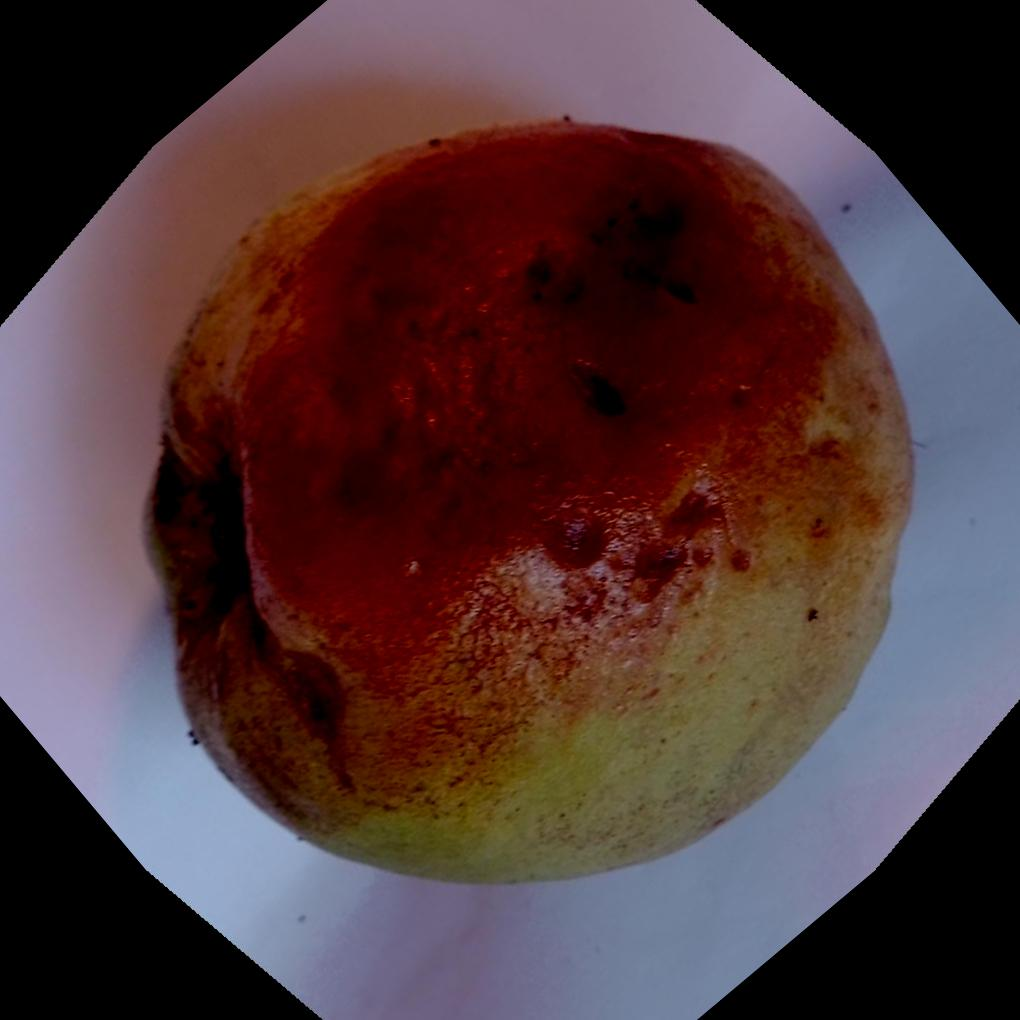FreshOrange: (143, 111, 920, 885)
